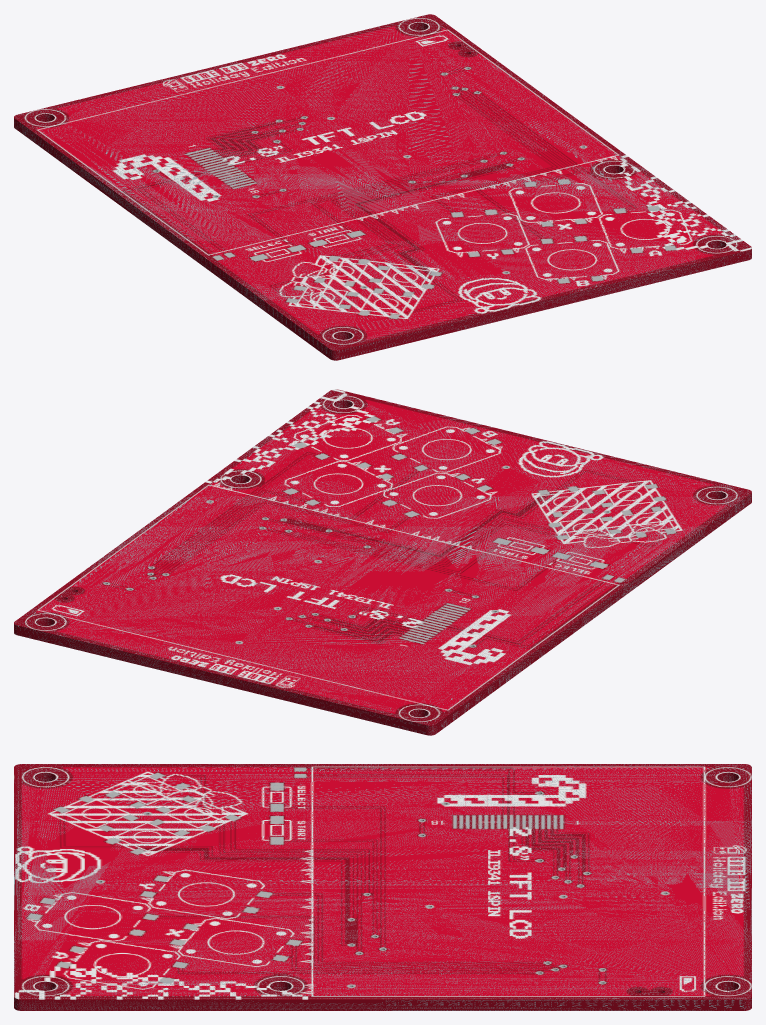
The model's file is gameboy-holiday.dae.
3 views of the same model, one above another, from view 1: azimuth 30°, elevation 25°; view 2: azimuth 150°, elevation 25°; view 3: azimuth 270°, elevation 25° (orthographic). The views are drawn at different scales.
Parts seen in each view (by area): view 1: pcbgroup (×2); view 2: pcbgroup (×2); view 3: pcbgroup (×2).
Part boxes in pixels (left/top/right/bottom): pcbgroup (×2): left=14, top=14, right=751, bottom=360; pcbgroup (×2): left=14, top=389, right=751, bottom=735; pcbgroup (×2): left=14, top=764, right=751, bottom=1010.
Bounding box in the file's own units: 2795 × 3701 × 62.99.
6 materials, 2 textured.
